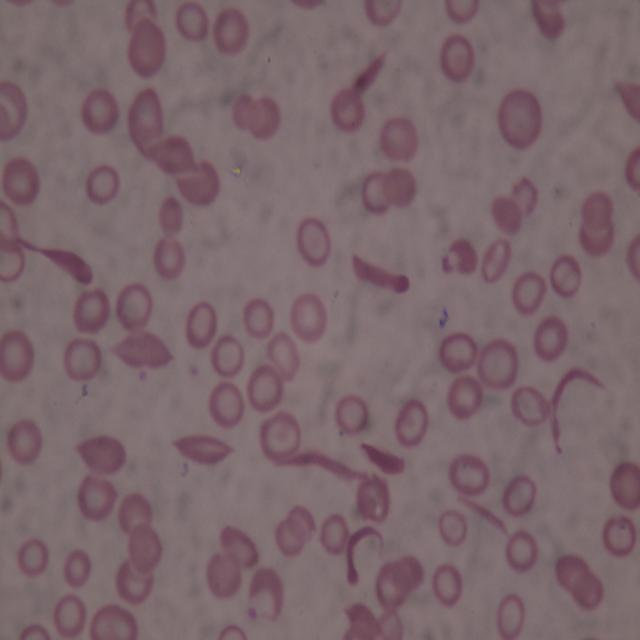Normal: (476, 337, 518, 390), (0, 329, 37, 384), (78, 475, 120, 521), (116, 282, 154, 332), (290, 292, 326, 344), (8, 418, 46, 466), (81, 91, 120, 136), (66, 336, 103, 382), (448, 372, 486, 416), (75, 287, 112, 332), (298, 216, 330, 268), (214, 6, 249, 52), (533, 316, 567, 363), (249, 363, 282, 411), (512, 270, 545, 317), (119, 492, 152, 538), (496, 590, 526, 640), (186, 300, 217, 348), (50, 595, 86, 636), (334, 394, 370, 435), (211, 384, 244, 427), (267, 332, 299, 376), (600, 517, 636, 556), (501, 474, 536, 514), (176, 3, 210, 44), (507, 529, 538, 572), (61, 545, 93, 586), (432, 564, 464, 605), (213, 336, 246, 374), (437, 509, 468, 549), (318, 511, 346, 554), (246, 300, 277, 338), (86, 167, 117, 202), (16, 541, 47, 576)
Others: (497, 91, 545, 145), (129, 85, 161, 154), (74, 435, 132, 472), (216, 522, 264, 565), (449, 454, 492, 501), (172, 160, 220, 202), (129, 23, 166, 76), (376, 119, 421, 160), (85, 602, 139, 636), (395, 399, 430, 451), (512, 380, 551, 426), (439, 330, 477, 376), (206, 553, 243, 600), (116, 556, 153, 602), (1, 78, 28, 141), (330, 88, 364, 134), (440, 33, 473, 80), (380, 166, 416, 208), (356, 478, 392, 520), (127, 528, 161, 572), (556, 551, 590, 595), (375, 563, 406, 610), (482, 236, 513, 283), (6, 157, 38, 202), (488, 196, 524, 236), (549, 253, 583, 295), (610, 462, 640, 509), (250, 98, 283, 140), (362, 170, 391, 215), (582, 193, 613, 235), (531, 4, 565, 42), (579, 222, 613, 260), (570, 570, 602, 610), (155, 238, 186, 279), (359, 0, 404, 28), (450, 238, 479, 279), (232, 98, 265, 134), (158, 194, 185, 235), (121, 1, 156, 32), (288, 506, 315, 544), (273, 521, 305, 552), (0, 200, 22, 244), (2, 242, 26, 282), (394, 554, 422, 588), (445, 0, 480, 27), (513, 178, 539, 214), (376, 607, 404, 640), (624, 231, 640, 284), (626, 143, 640, 192), (16, 622, 50, 640), (341, 622, 370, 640), (222, 621, 245, 640), (290, 0, 324, 12)
Sickle: (549, 364, 608, 456), (18, 237, 93, 287), (335, 47, 391, 112), (272, 452, 365, 482), (108, 329, 175, 370), (141, 133, 203, 177), (351, 251, 411, 296), (344, 525, 386, 588), (456, 494, 512, 541), (170, 431, 234, 465), (247, 564, 285, 616), (358, 441, 407, 477), (346, 604, 386, 639), (612, 78, 640, 121)
Target: (259, 411, 301, 462)
